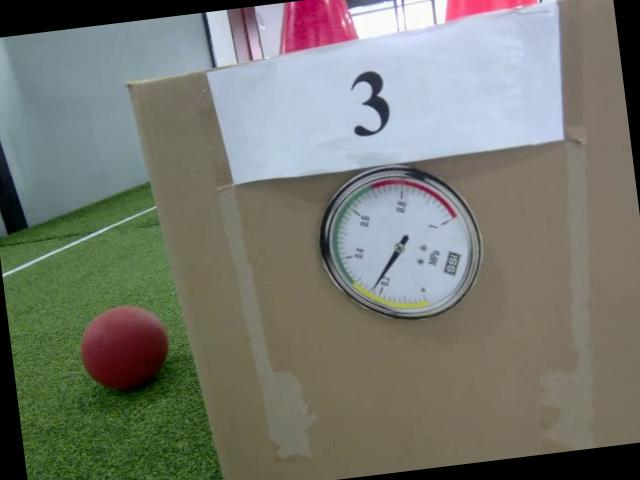3: (342, 67, 392, 147)
Dashboard: (306, 156, 492, 334)
orange_barrel: (436, 0, 541, 25)
red_ball: (74, 300, 175, 399)
red_barrel: (267, 0, 359, 58)
ssi: (441, 248, 463, 279)
